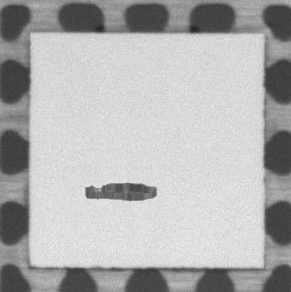DIE_INK: (82, 179, 158, 201)
